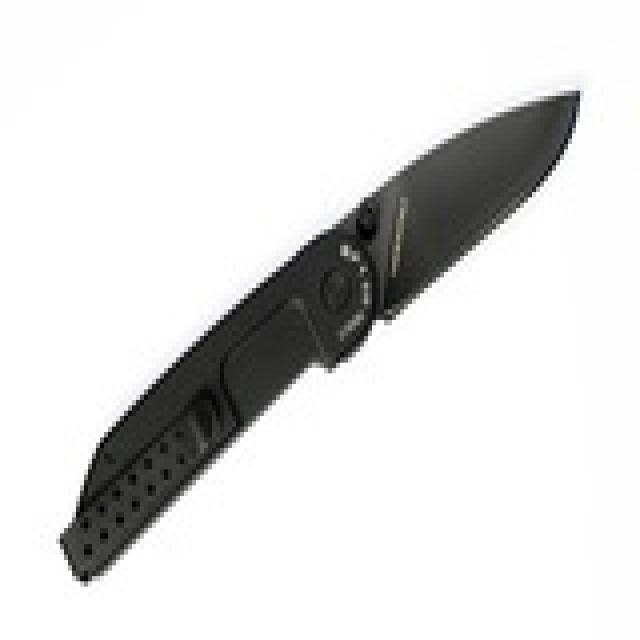Knife: (44, 86, 582, 595)
